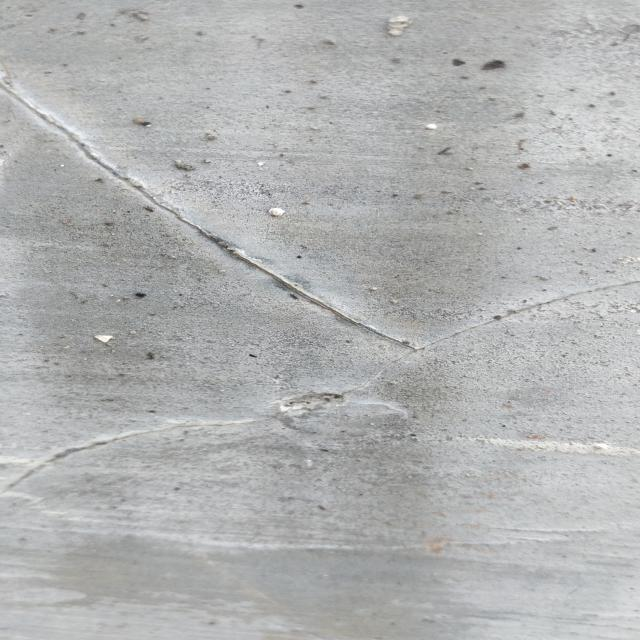Crack: (0, 82, 640, 355)
